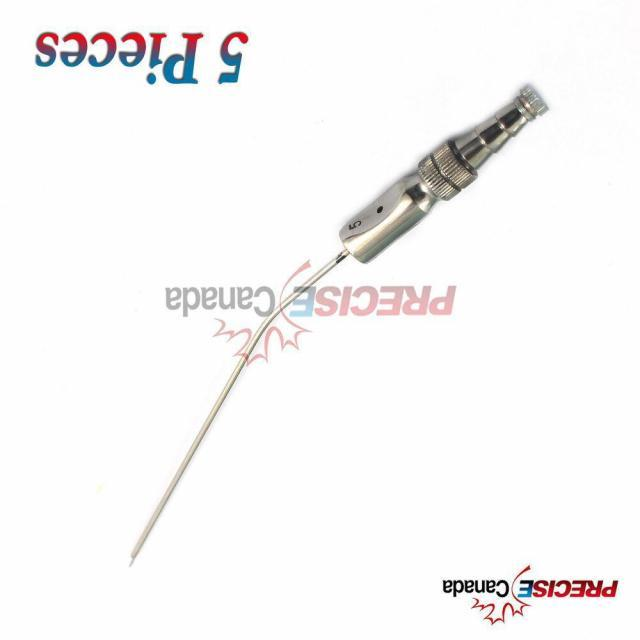Frazier: (129, 83, 553, 561)
